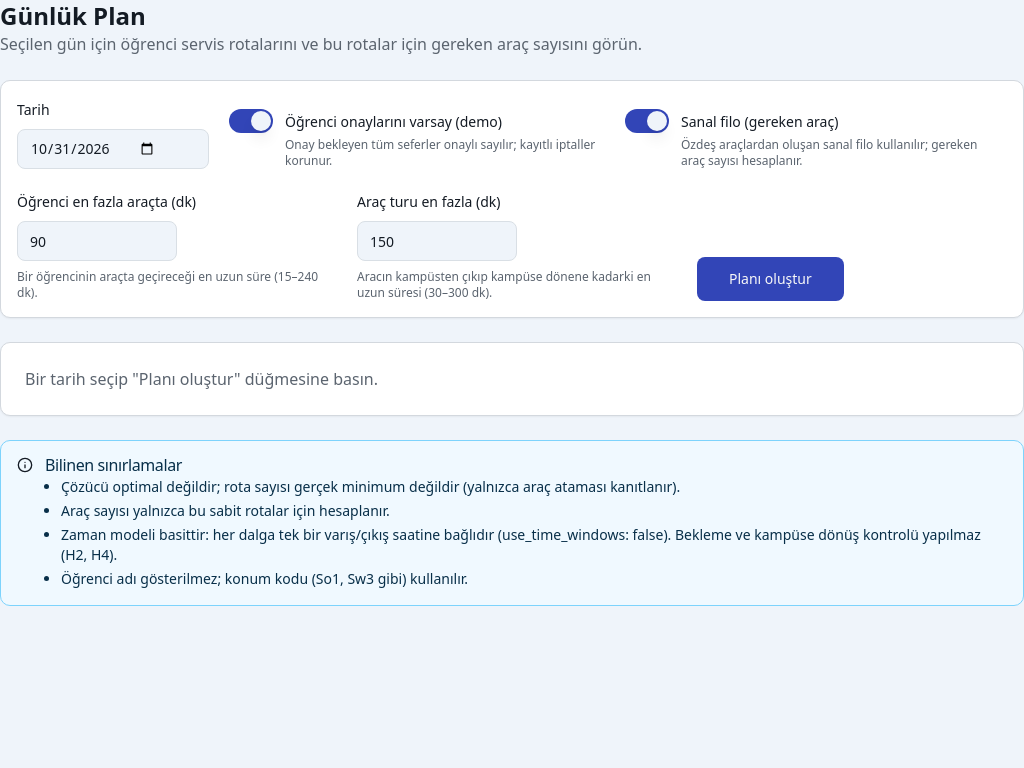
Test: DailyPlanPage › describes a failed route computation without claiming a minimum ride limit
Type "2026-10-05" into the date field labelled "Tarih" at coordinates (113, 149), box [17,129,209,169]
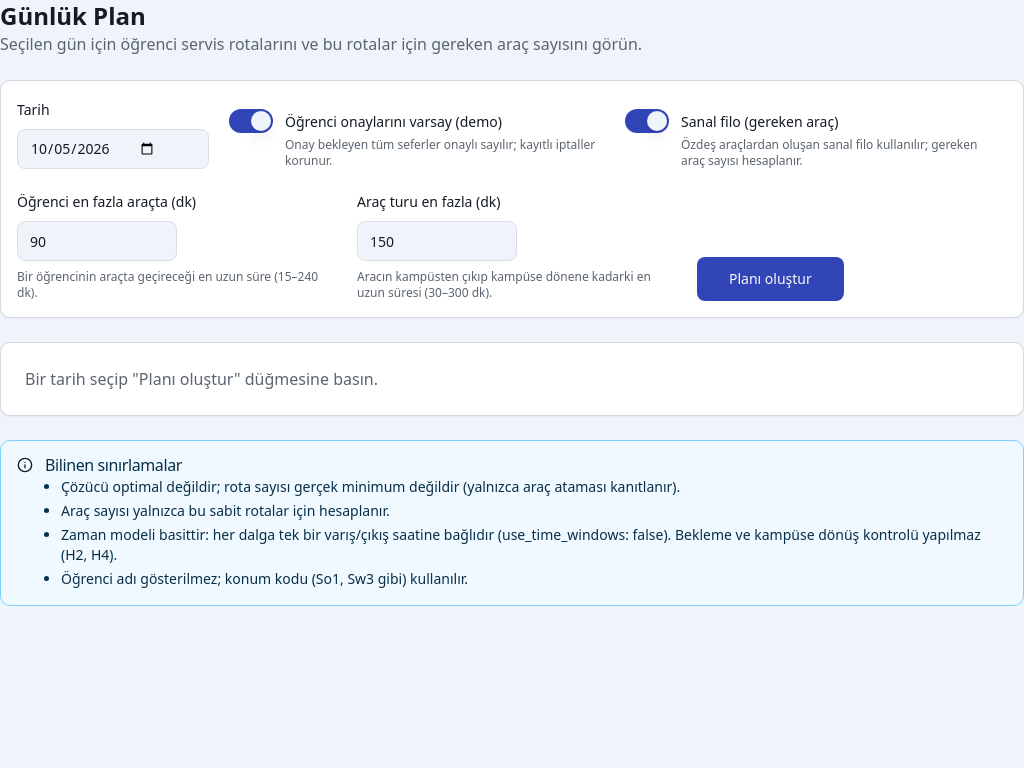
Click the button "Planı oluştur" at coordinates (770, 279), box [697,257,844,301]
(page scrolled)
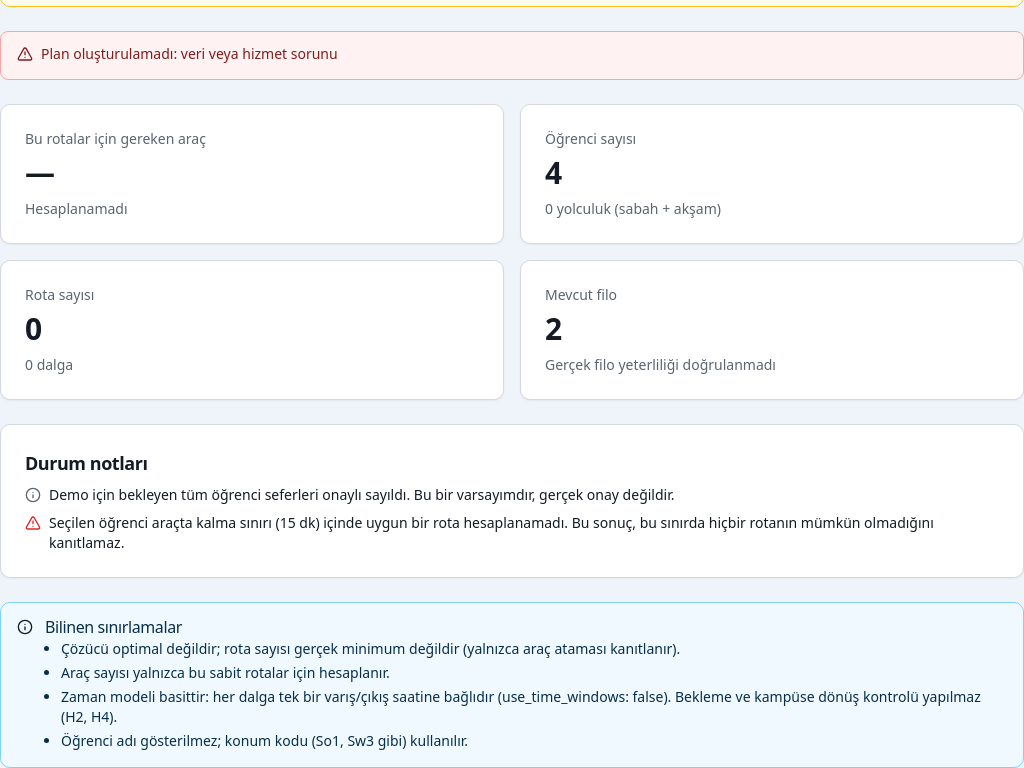
Expected: the element with test id "status-notes" shows "(15 dk) içinde uygun bir rota hesaplanamadı", [49,513,934,552]
Expected: the element with test id "status-notes" shows "kanıtlamaz", [49,513,934,552]
